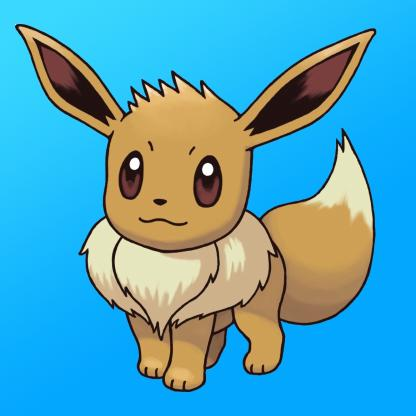Eevee: (1, 17, 389, 392)
